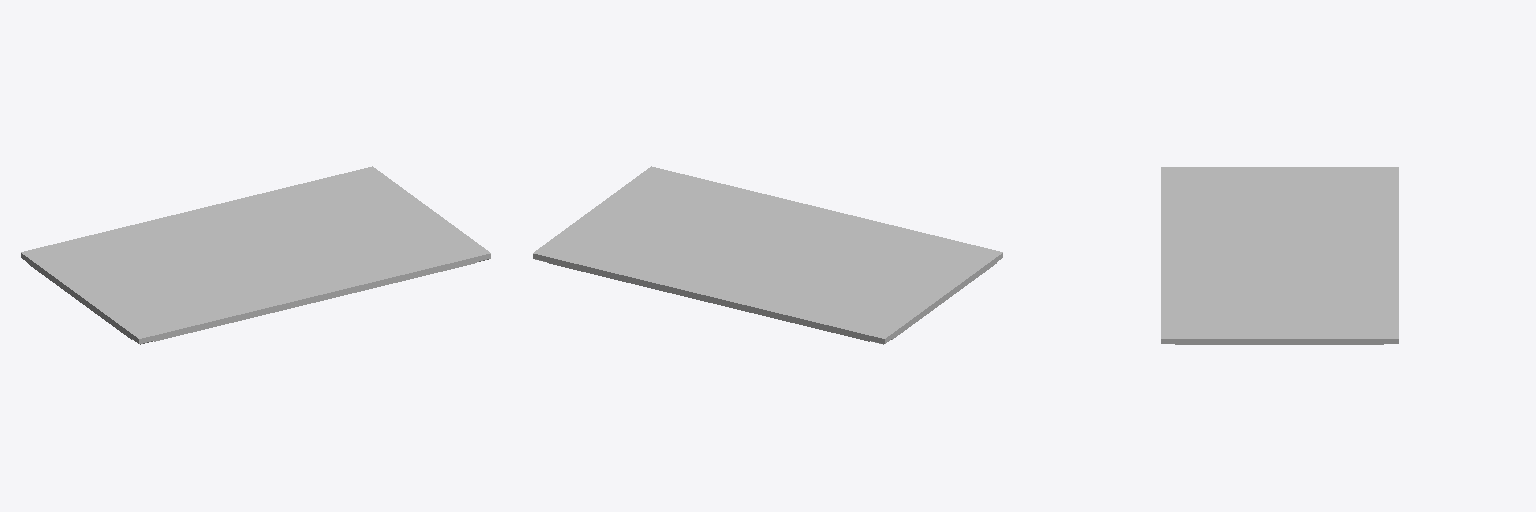
File: DeChirico.obj
3 renders of one model, left to right at view 1: azimuth 30°, elevation 25°; view 2: azimuth 150°, elevation 25°; view 3: azimuth 270°, elevation 25°, orthographic.
Visible parts, largest first — view 1: Frame_Cube.001; view 2: Frame_Cube.001; view 3: Frame_Cube.001.
Part boxes in pixels (x1,y1,x2,y2): Frame_Cube.001: (21, 166, 490, 344); Frame_Cube.001: (533, 166, 1002, 344); Frame_Cube.001: (1161, 167, 1398, 344).
Size of the model in its own units: 8.18 by 0.1421 by 4.78.